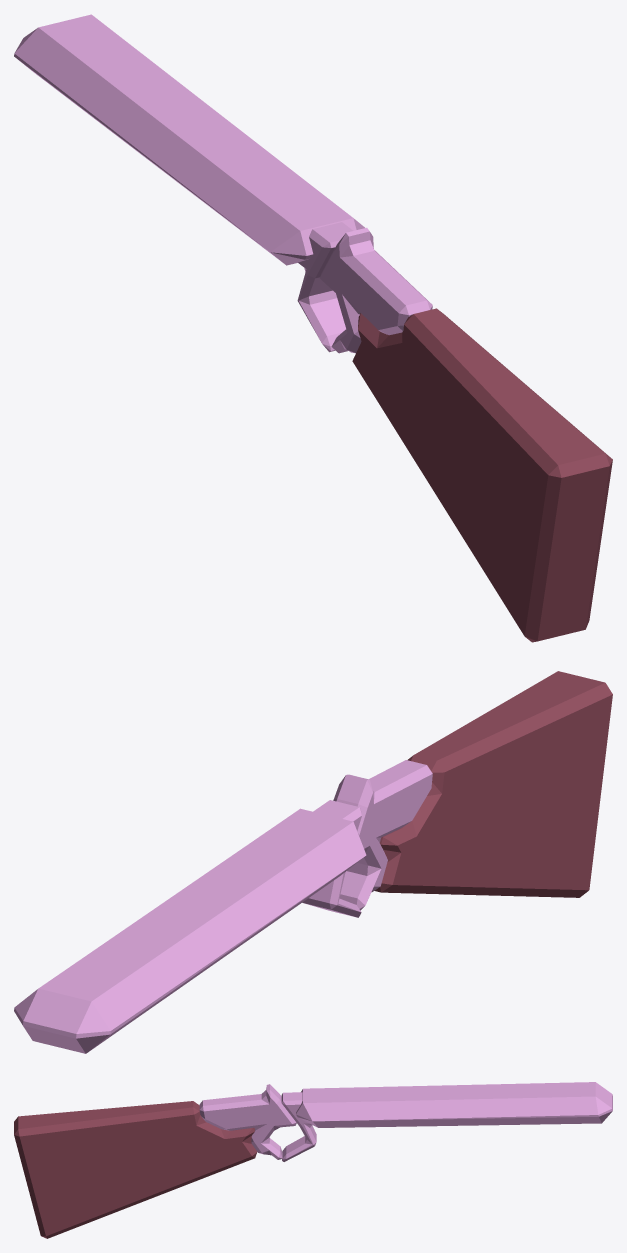
The model's file is shotgun.glb.
3 views of the same model, one above another, from view 1: azimuth 30°, elevation 25°; view 2: azimuth 150°, elevation 25°; view 3: azimuth 270°, elevation 25° (orthographic). The views are drawn at different scales.
Parts seen in each view (by area): view 1: stock, barrel; view 2: stock, barrel; view 3: stock, barrel.
Boxes of the visible parts, x1,y1,x2,y2 form: stock: [320, 227, 612, 642]; barrel: [14, 14, 364, 352]; stock: [333, 671, 612, 910]; barrel: [14, 800, 366, 1053]; stock: [14, 1084, 296, 1238]; barrel: [281, 1082, 612, 1161].
Bounding box in the file's own units: 0.17 × 0.4392 × 1.64.
